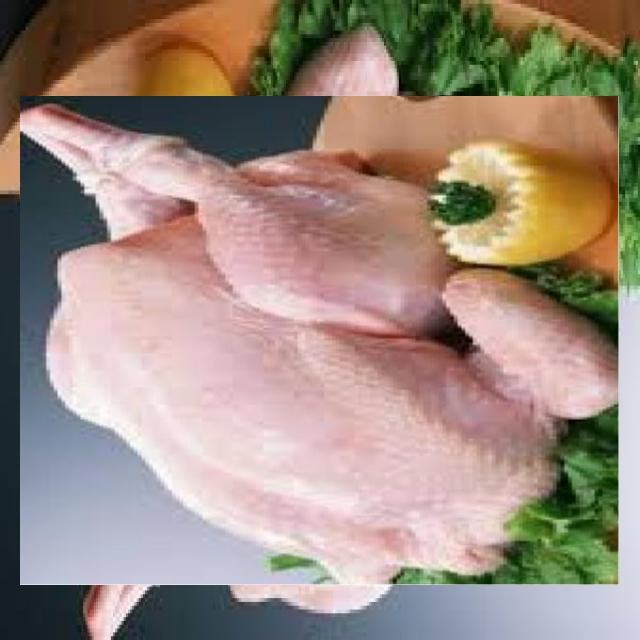chicken: (48, 68, 592, 612)
